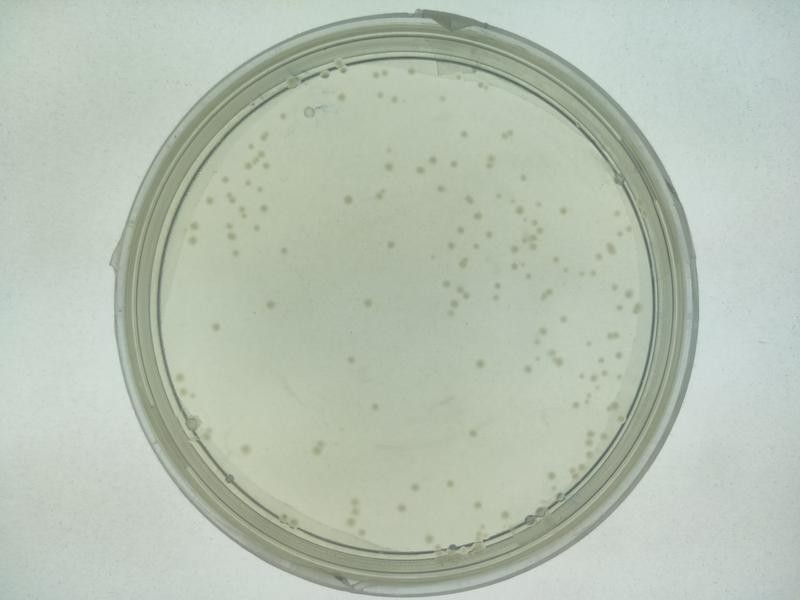colony: (270, 240, 300, 264), (462, 349, 489, 375), (339, 347, 365, 371), (255, 289, 279, 314), (382, 235, 405, 260), (438, 474, 463, 497), (553, 202, 576, 225), (364, 396, 386, 419), (400, 476, 425, 496), (463, 423, 485, 445), (439, 235, 462, 256), (336, 187, 356, 210), (433, 274, 456, 294), (388, 499, 415, 516), (520, 360, 541, 381), (207, 316, 229, 336), (379, 155, 399, 177), (430, 178, 450, 200), (466, 496, 488, 516), (255, 200, 277, 218), (356, 294, 377, 312), (457, 123, 474, 144)
